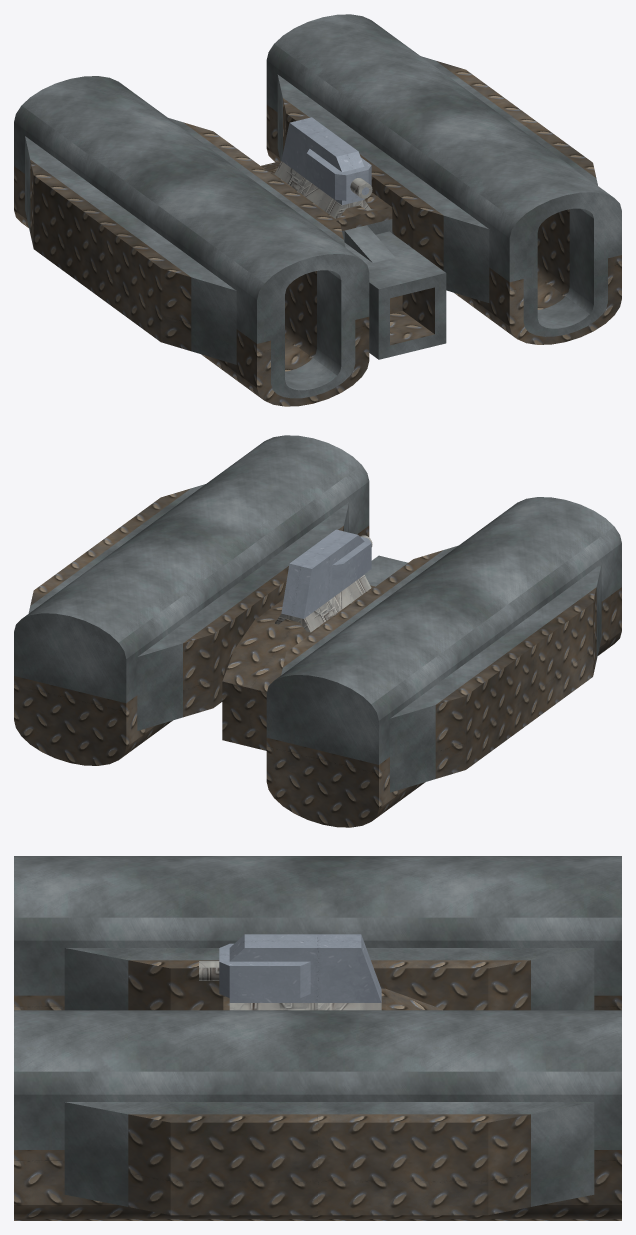
File: rocket_launcher.fbx
The picture shows the model from 3 angles, top to bottom: view 1: azimuth 30°, elevation 25°; view 2: azimuth 150°, elevation 25°; view 3: azimuth 270°, elevation 25°; orthographic projection. The views are drawn at different scales.
Parts seen in each view (by area): view 1: mergedBlocks; view 2: mergedBlocks; view 3: mergedBlocks.
Boxes of the visible parts, x1,y1,x2,y2 form: mergedBlocks: (14,14,621,406); mergedBlocks: (14,435,621,827); mergedBlocks: (14,856,621,1220).
Bounding box in the file's own units: 15.4 × 5.9 × 15.
6 materials, 6 textured.
